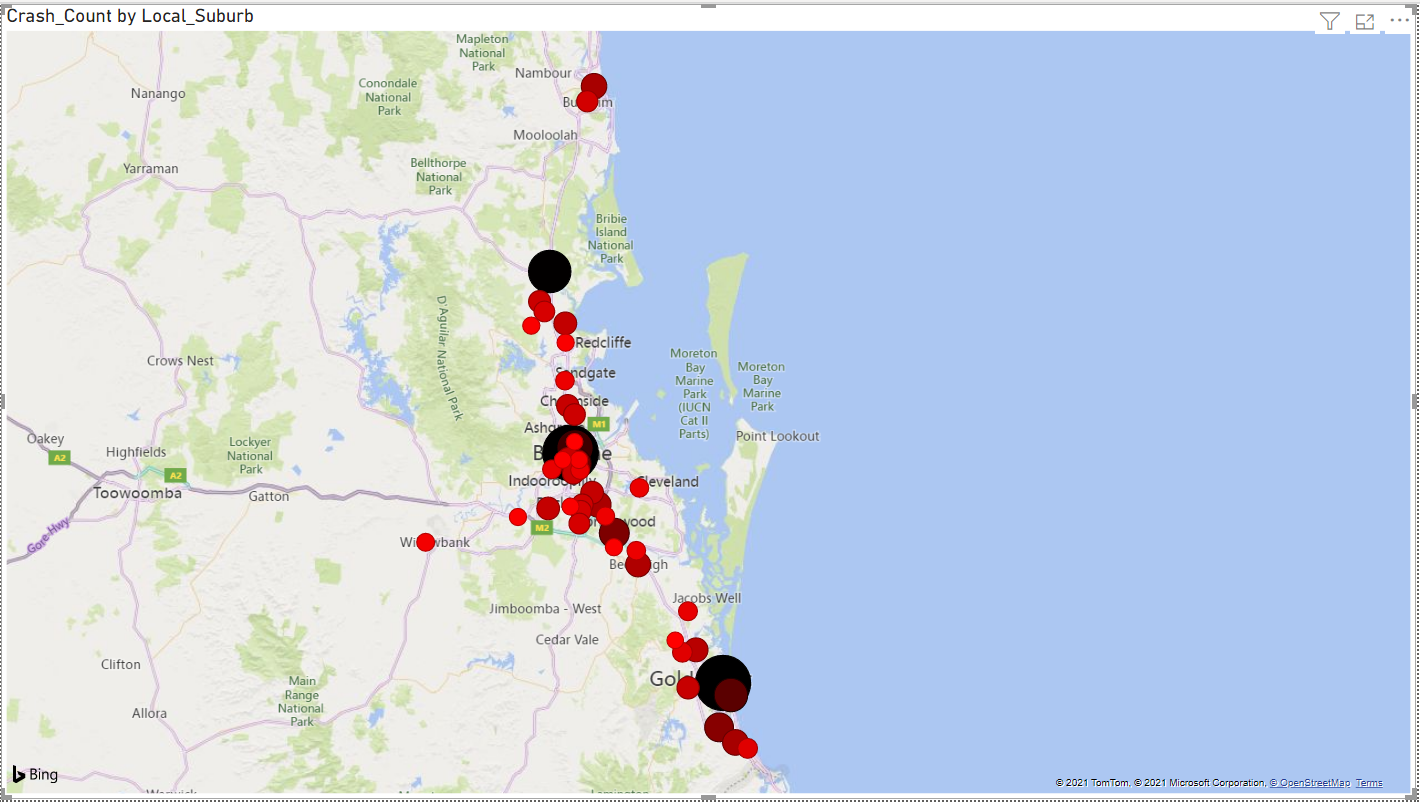

What the dashboard file says about the page in this screenshot:
{"tool":"powerbi","page":{"name":"Top 50 Car Crash Count by Suburb","canvas":[1280,720],"ordinal":0},"visuals":[{"type":"map","fields":{"Size":["Sum(top50sub.Crash_Year)"],"Category":["top50sub.Loc_Suburb"]},"box":[9.6,0,1270.4,719.7],"z":0}]}

Visuals, with their boxes in screenshot pixels (x1, y1, x2, y2), scaled from the page's 1280x720 canvas onto the 1420x805 screenshot:
map - Sum(top50sub.Crash_Year) x top50sub.Loc_Suburb: locate(11, 0, 1419, 804)
